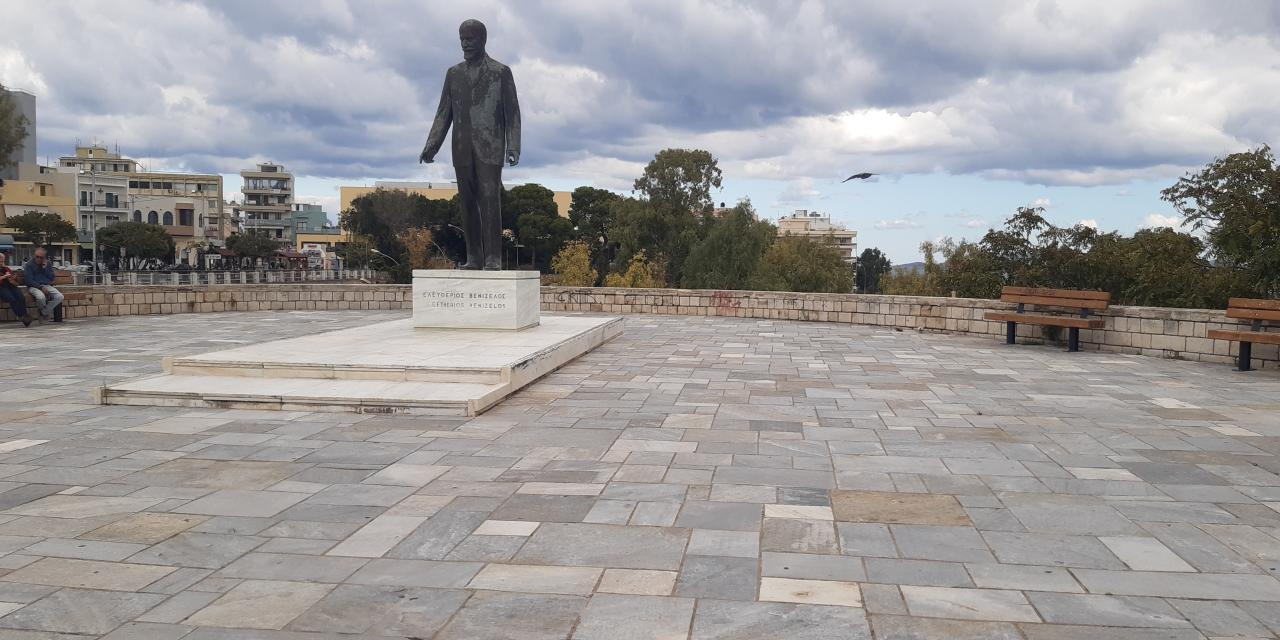Venizelos: (421, 21, 523, 271)
